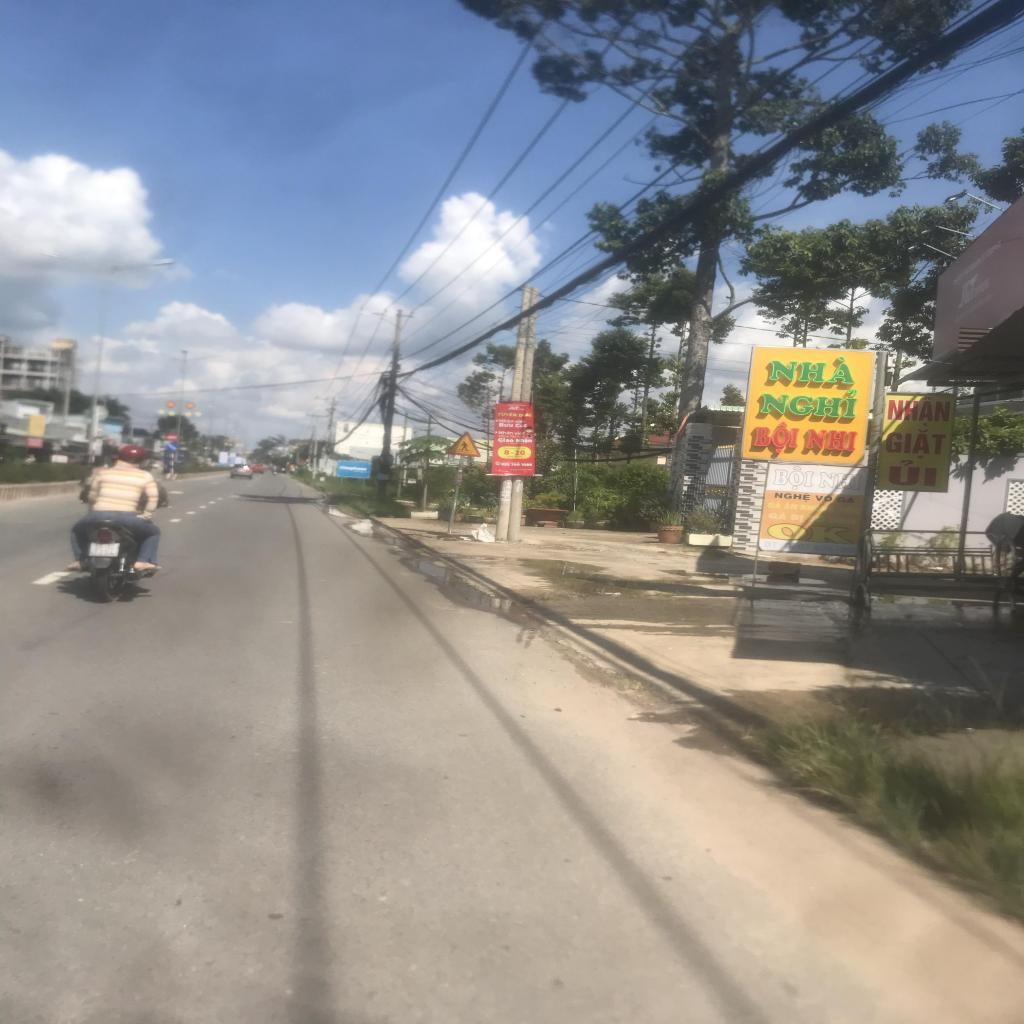cam_xe_di_nguoc_chieu: (166, 432, 178, 441)
chu_y_nguoi_di_bo_cat_ngang: (445, 430, 481, 456)
huong_phai_di_vuot_chuong_ngai_vat_phai: (166, 442, 178, 451)
